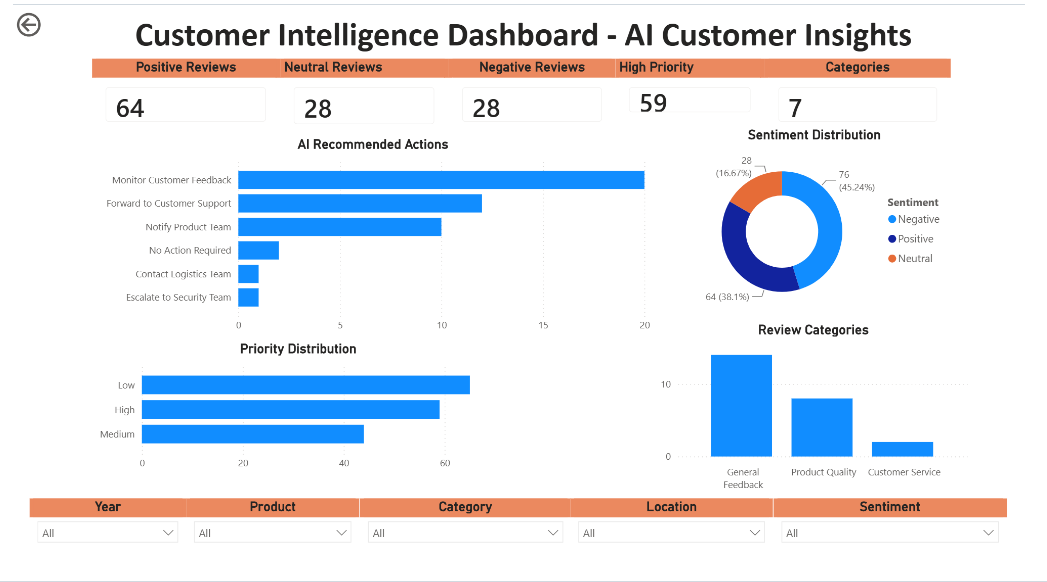

The dashboard page shown, as its layout file describes it:
{"tool":"powerbi","page":{"name":"🤖 AI Customer Insights","canvas":[1280,720],"ordinal":2},"visuals":[{"type":"textbox","box":[10.6,0,1269.4,96.4],"z":0},{"type":"cardVisual","title":"Positive Reviews","fields":{"Data":["MeasuresTable.PositiveReviews"]},"box":[100.4,63.4,237.8,97.8],"z":1000},{"type":"cardVisual","title":"Categories","fields":{"Data":["MeasuresTable.AICategories"]},"box":[951.1,63.4,235.1,97.8],"z":2000},{"type":"cardVisual","title":"Negative Reviews","fields":{"Data":["MeasuresTable.NeutralReviews"]},"box":[550.8,63.4,211.4,97.8],"z":3000},{"type":"cardVisual","title":"High Priority","fields":{"Data":["MeasuresTable.HighPriorityReviews"]},"box":[762.2,63.4,188.9,85.9],"z":4000},{"type":"clusteredColumnChart","title":"Review Categories","fields":{"Category":["FactCustomerSentiment.Category"],"Y":["MeasuresTable.TotalAIReviews"]},"box":[811.1,396.3,402.9,221.9],"z":5000},{"type":"clusteredBarChart","title":"AI Recommended Actions","fields":{"Category":["FactCustomerSentiment.RecommendedAction"],"Y":["MeasuresTable.TotalAIReviews"]},"box":[100.4,161.2,710.7,257.6],"z":6000},{"type":"donutChart","title":"Sentiment Distribution","fields":{"Category":["FactCustomerSentiment.Sentiment"],"Y":["MeasuresTable.TotalAIReviews"]},"box":[833.5,149.3,359.3,247],"z":7000},{"type":"slicer","title":"Year","fields":{"Values":["DimDate.YearNumber"]},"box":[21.1,619.5,198.1,91.1],"z":8000},{"type":"slicer","title":"Product","fields":{"Values":["DimProduct.ProductName"]},"box":[219.3,619.5,219.3,91.1],"z":9000},{"type":"slicer","title":"Category","fields":{"Values":["DimProduct.Category"]},"box":[438.6,619.5,266.8,91.1],"z":10000},{"type":"slicer","title":"Location","fields":{"Values":["DimCustomer.Location"]},"box":[705.4,619.5,256.3,91.1],"z":11000},{"type":"slicer","title":"Sentiment","fields":{"Values":["FactCustomerSentiment.Sentiment"]},"box":[961.7,619.5,294.6,91.1],"z":12000},{"type":"actionButton","box":[0,0,100,40],"z":13000},{"type":"cardVisual","title":"Neutral Reviews","fields":{"Data":["MeasuresTable.NeutralReviews"]},"box":[338.2,63.4,212.7,100.4],"z":14000},{"type":"barChart","title":"Priority Distribution","fields":{"Category":["FactCustomerSentiment.Priority"],"Y":["MeasuresTable.TotalAIReviews"]},"box":[100.4,420.1,521.8,173],"z":16000}]}

Visuals, with their boxes in screenshot pixels (x1, y1, x2, y2), scaled from the page's 1280x720 canvas onto the 1047x582 screenshot:
textbox: BBox(9, 0, 1046, 78)
"Positive Reviews" cardVisual: BBox(82, 51, 277, 130)
"Categories" cardVisual: BBox(778, 51, 970, 130)
"Negative Reviews" cardVisual: BBox(451, 51, 623, 130)
"High Priority" cardVisual: BBox(623, 51, 778, 121)
"Review Categories" clusteredColumnChart: BBox(663, 320, 993, 500)
"AI Recommended Actions" clusteredBarChart: BBox(82, 130, 663, 339)
"Sentiment Distribution" donutChart: BBox(682, 121, 976, 320)
"Year" slicer: BBox(17, 501, 179, 574)
"Product" slicer: BBox(179, 501, 359, 574)
"Category" slicer: BBox(359, 501, 577, 574)
"Location" slicer: BBox(577, 501, 787, 574)
"Sentiment" slicer: BBox(787, 501, 1028, 574)
actionButton: BBox(0, 0, 82, 32)
"Neutral Reviews" cardVisual: BBox(277, 51, 451, 132)
"Priority Distribution" barChart: BBox(82, 340, 509, 479)
